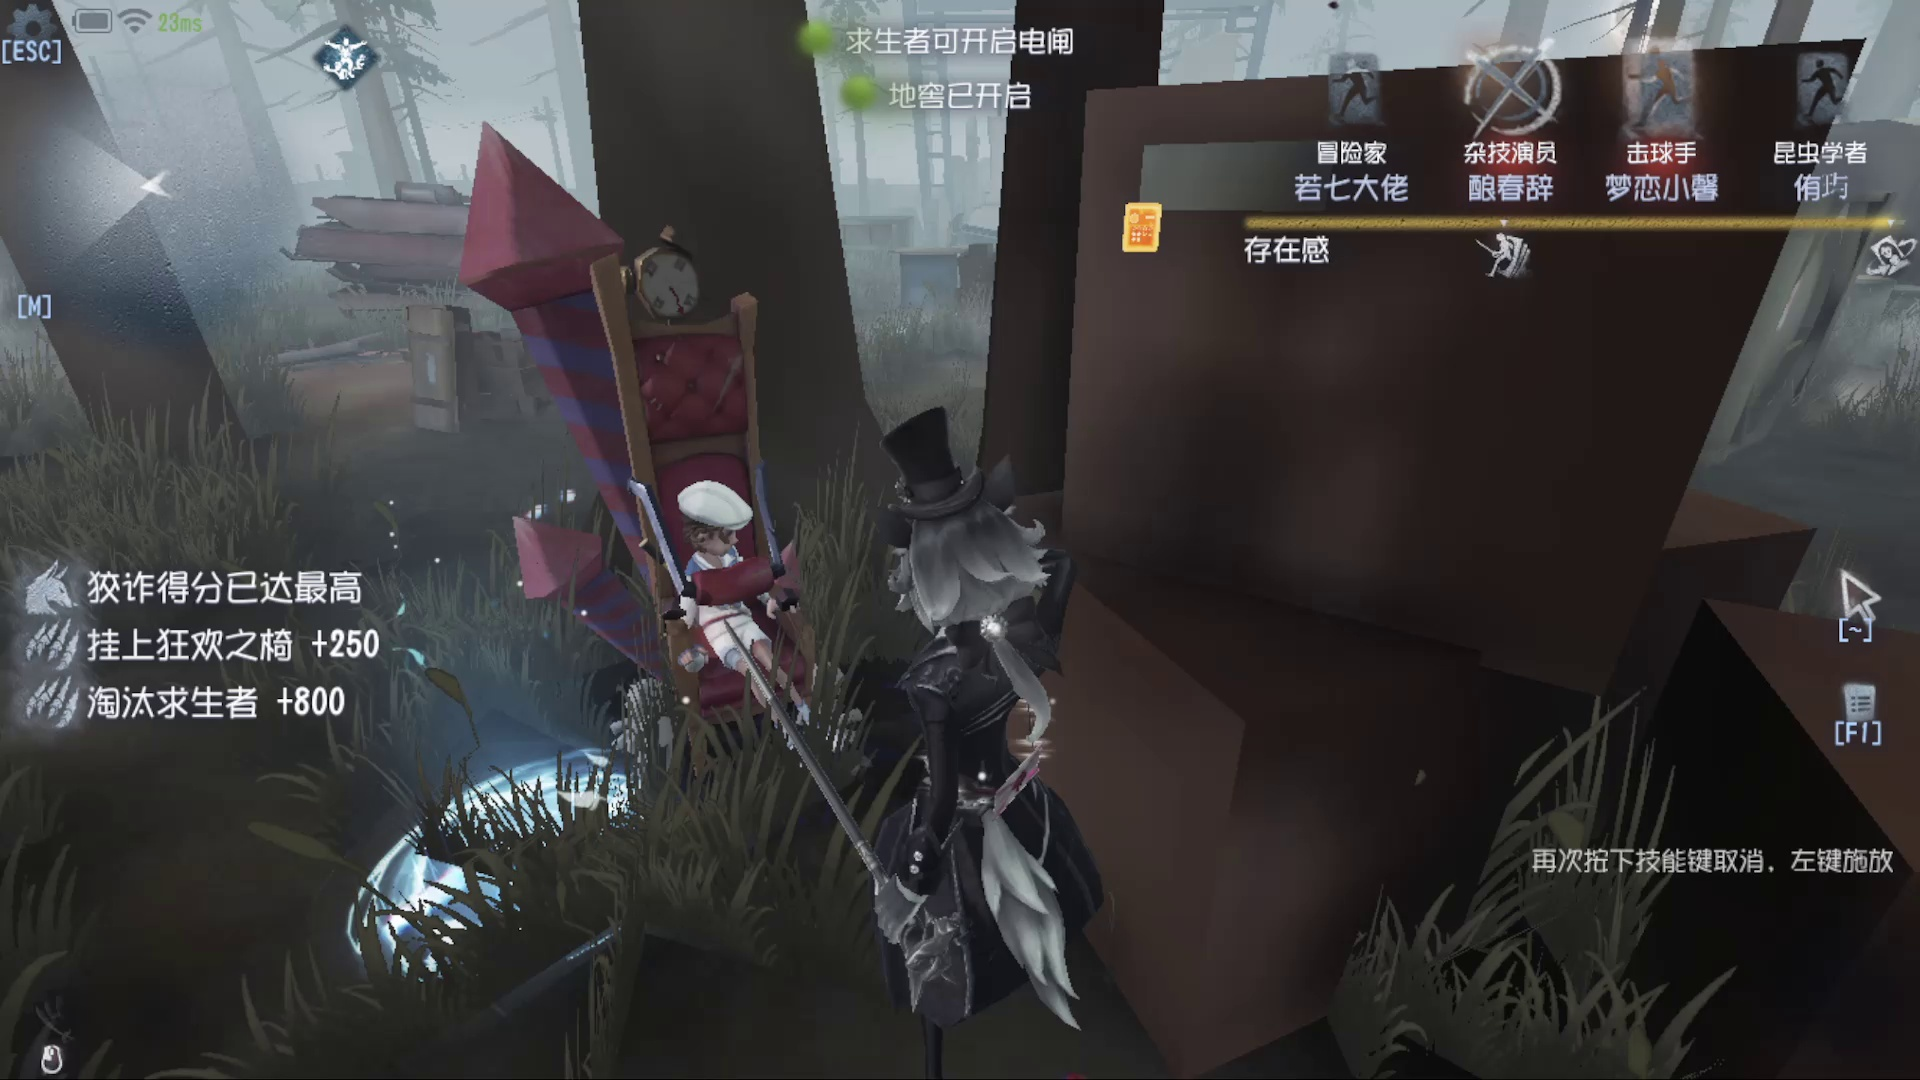求生者: (682, 481, 816, 723)
狂欢之椅: (392, 120, 839, 785)
